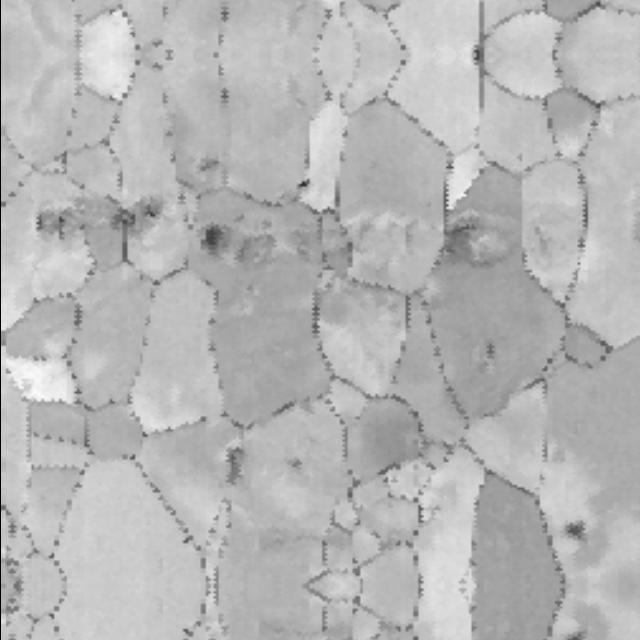good_void: (418, 191, 516, 293), (100, 177, 170, 250), (216, 220, 282, 279), (25, 198, 94, 244), (192, 213, 236, 265), (552, 510, 594, 551), (215, 444, 248, 487), (280, 450, 316, 487), (477, 331, 502, 366), (193, 153, 223, 177), (289, 172, 316, 189), (559, 624, 586, 640)
